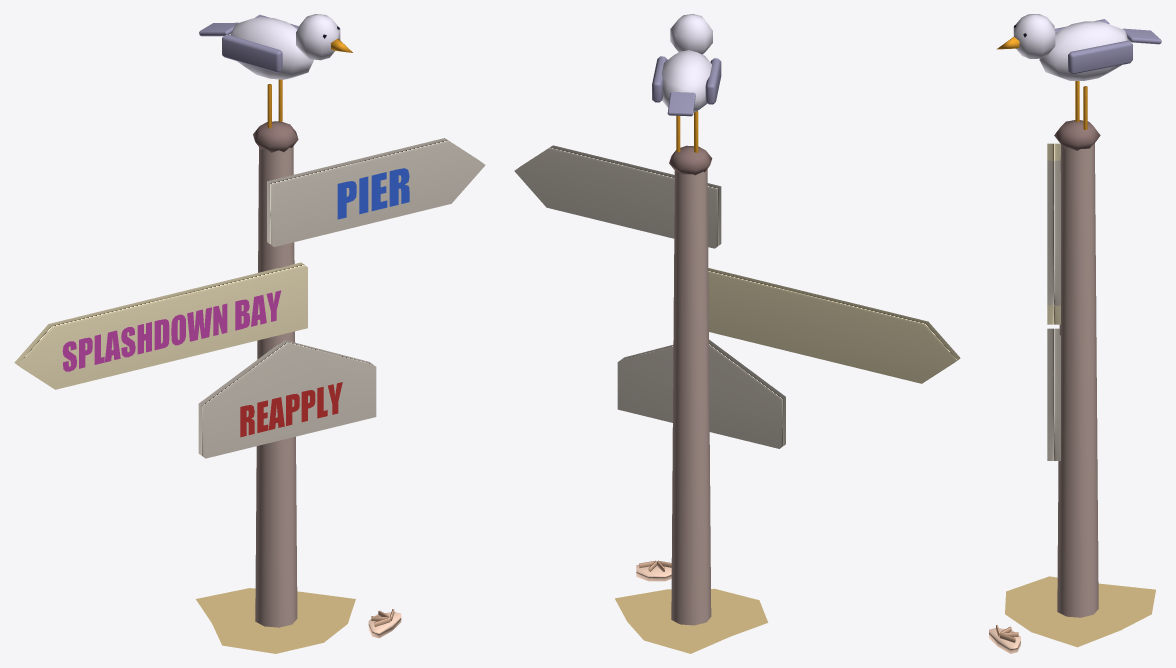
The model's file is beach_sign.glb.
3 views of the same model, side by side, from view 1: azimuth 30°, elevation 25°; view 2: azimuth 150°, elevation 25°; view 3: azimuth 270°, elevation 25° (orthographic). The views are drawn at different scales.
Visible parts, largest first — view 1: Sign; view 2: Sign; view 3: Sign.
Part boxes in pixels (bbox=[...]): Sign: bbox=[14, 14, 485, 653]; Sign: bbox=[514, 14, 960, 653]; Sign: bbox=[989, 14, 1161, 653].
Bounding box in the file's own units: 1.36 × 1.72 × 0.4454.
